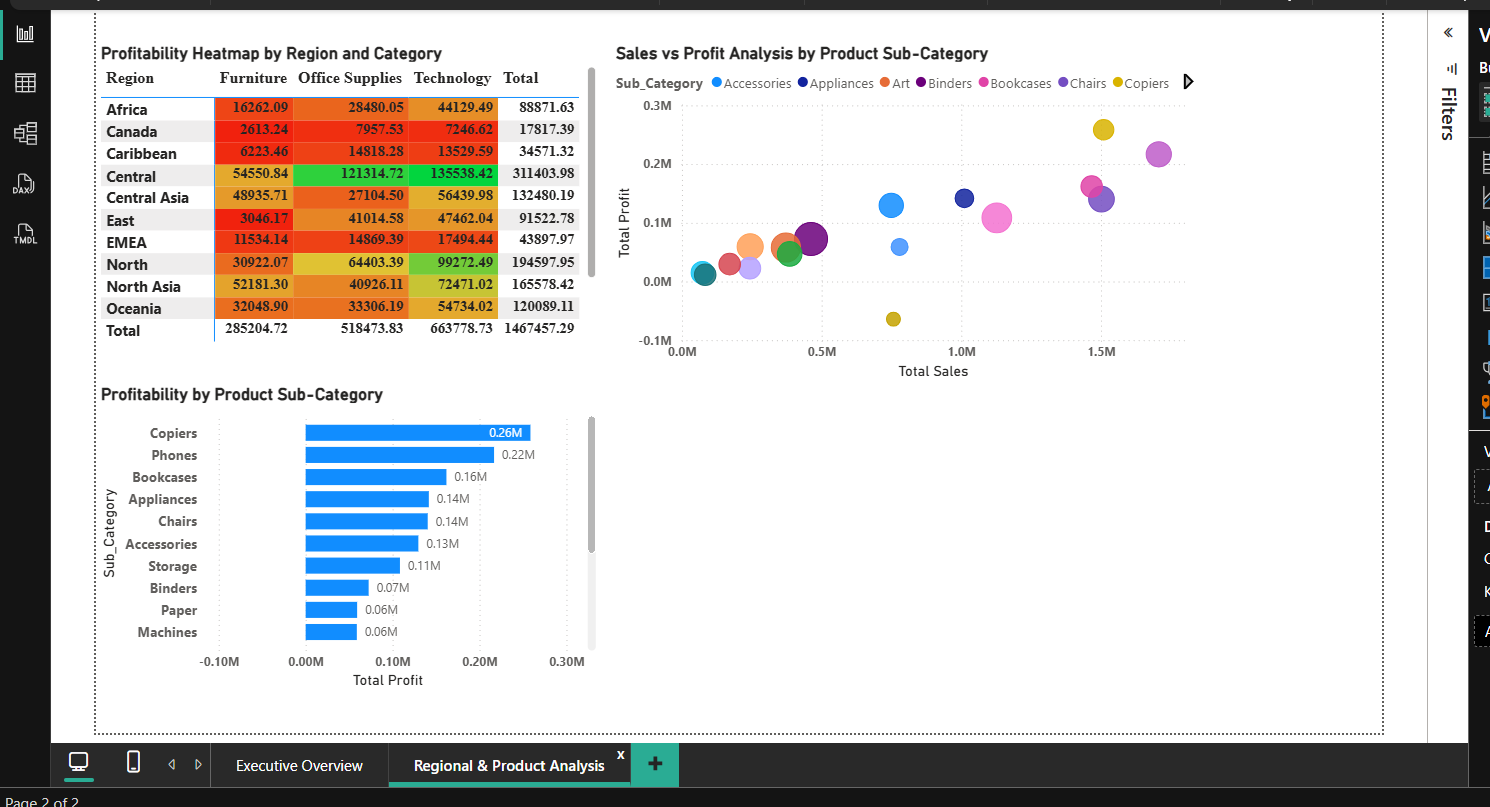

What the dashboard file says about the page in this screenshot:
{"tool":"powerbi","page":{"name":"Regional & Product Analysis","canvas":[1280,720],"ordinal":1},"visuals":[{"type":"pivotTable","title":"Profitability Heatmap by Region and Category","fields":{"Rows":["cleaned_global_superstore2.Region"],"Columns":["cleaned_global_superstore2.Category"],"Values":["Measure.Total Profit"]},"box":[0,32.3,502.6,302.3],"z":0},{"type":"clusteredBarChart","title":"Profitability by Product Sub-Category","fields":{"Category":["cleaned_global_superstore2.Sub_Category"],"Y":["Measure.Total Profit"]},"box":[0,371.9,502.6,308.5],"z":1},{"type":"scatterChart","title":"Sales vs Profit Analysis by Product Sub-Category","fields":{"X":["Measure.Total Sales"],"Y":["Measure.Total Profit"],"Size":["Sum(cleaned_global_superstore2.Quantity)"],"Series":["cleaned_global_superstore2.Sub_Category"]},"box":[512.5,32.5,591.2,340],"z":2}]}

Visuals, with their boxes on the page's 1280x720 design canvas (x1, y1, x2, y2). These are canvas units, not pixel positions in the 1490x807 screenshot, which may show the page scaled, cropped or inside an application window:
"Profitability Heatmap by Region and Category" pivotTable: (0,32,503,335)
"Profitability by Product Sub-Category" clusteredBarChart: (0,372,503,680)
"Sales vs Profit Analysis by Product Sub-Category" scatterChart: (512,32,1104,372)
